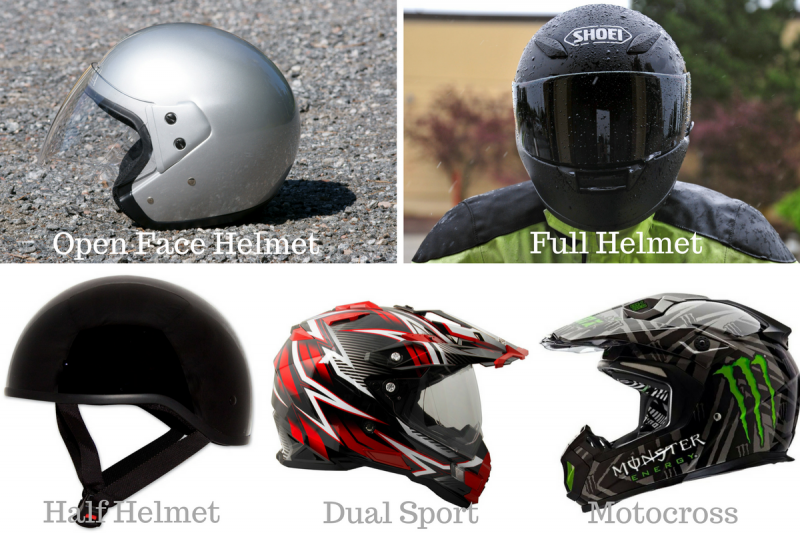with_helmet: (32, 17, 318, 232), (537, 290, 800, 514), (271, 292, 532, 511), (2, 275, 258, 457), (502, 2, 705, 230)
